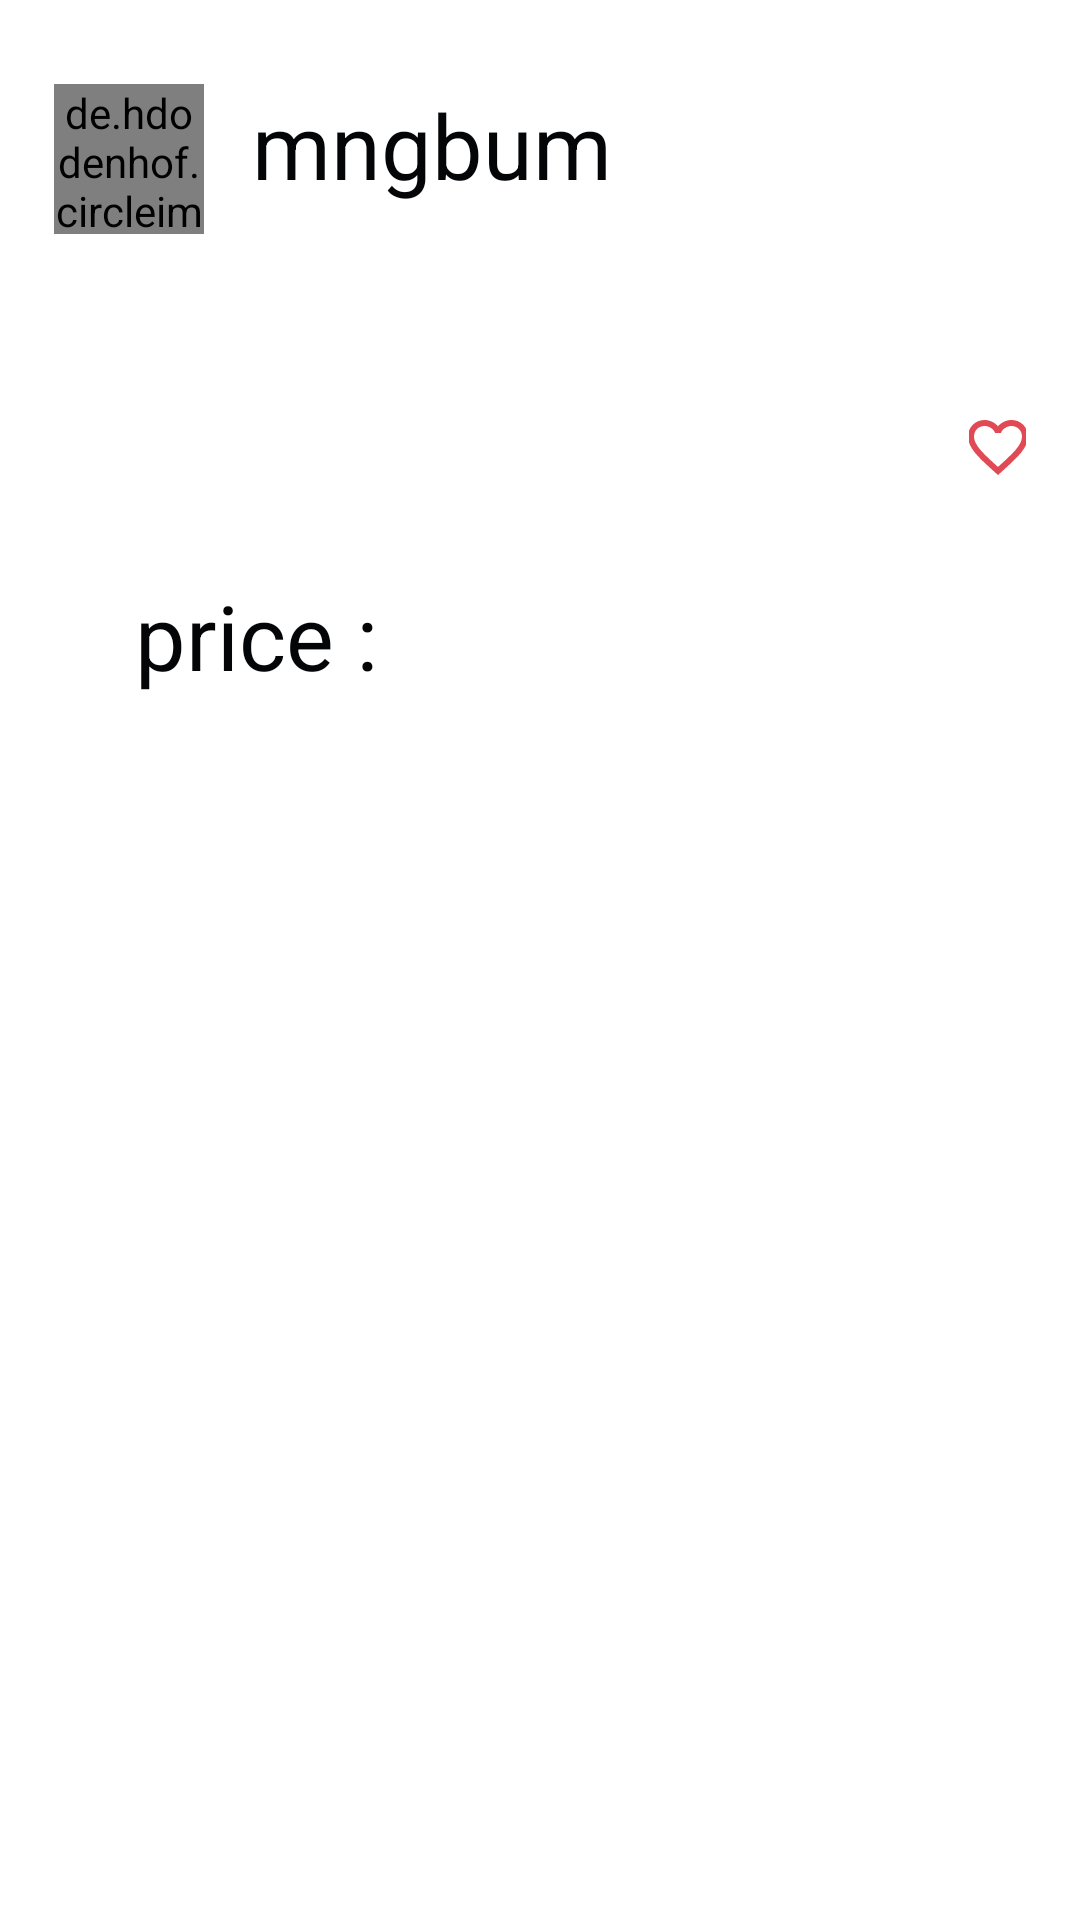

Icon bounding boxes for this 1080 × 1920 phone screenshot, format {"x1": x1, "y1": y1, "x2": x2, "y2": y2}:
favorite: {"x1": 969, "y1": 420, "x2": 1026, "y2": 475}
